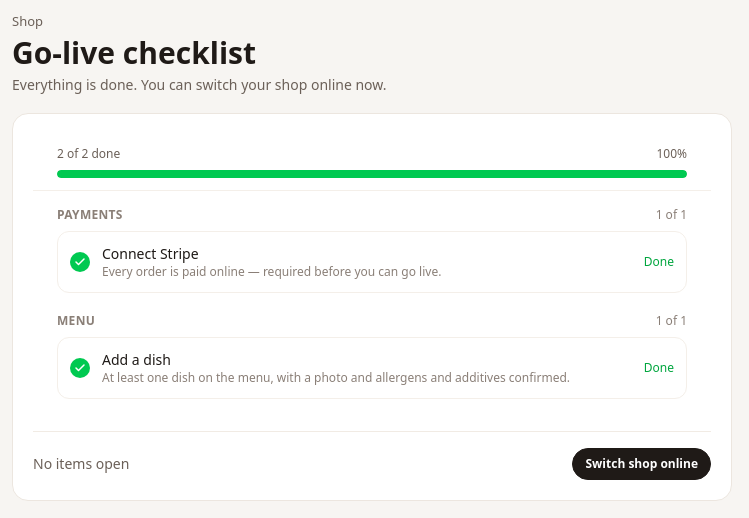
it: GoLiveChecklistPage › switches online, toasts and goes to the dashboard
The image size is (749, 518).
Click the button "Switch shop online" at {"x": 642, "y": 464}, box [572,448,711,480]
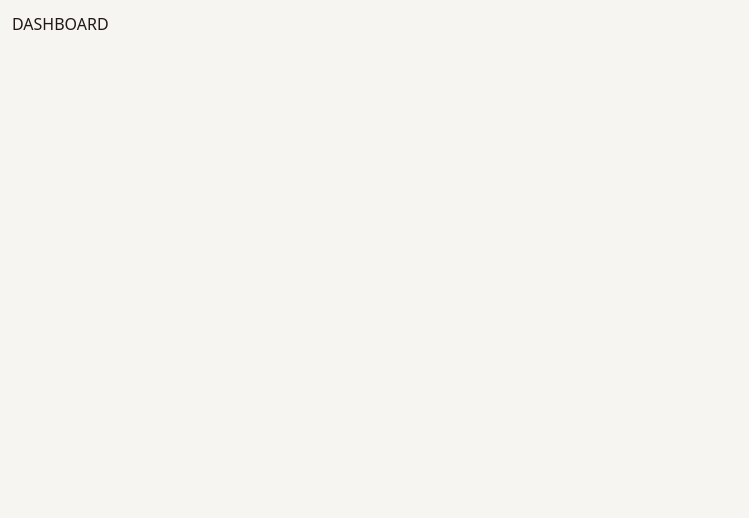
Check: the text "DASHBOARD" is shown, box [12,13,109,35]
